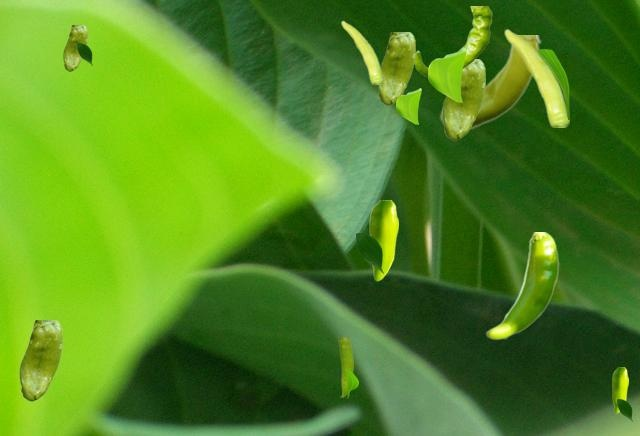green_chili: (439, 35, 540, 128), (485, 232, 558, 339), (504, 28, 568, 126), (414, 6, 491, 77), (19, 320, 61, 400), (442, 59, 484, 139), (377, 32, 414, 104), (341, 20, 382, 83), (369, 200, 397, 280), (63, 25, 86, 70), (338, 337, 352, 396), (612, 367, 627, 412)
